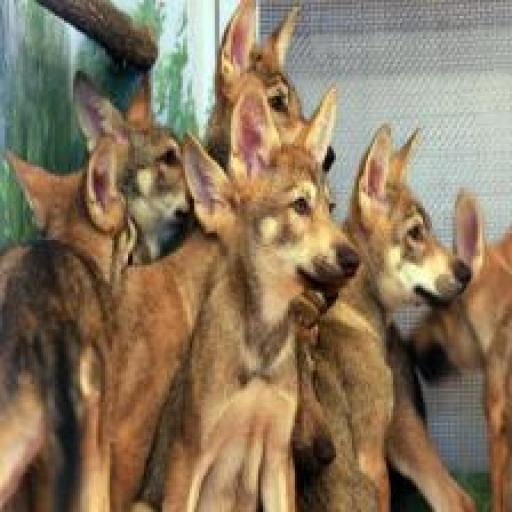wolf: (156, 80, 361, 512), (322, 114, 477, 512)
